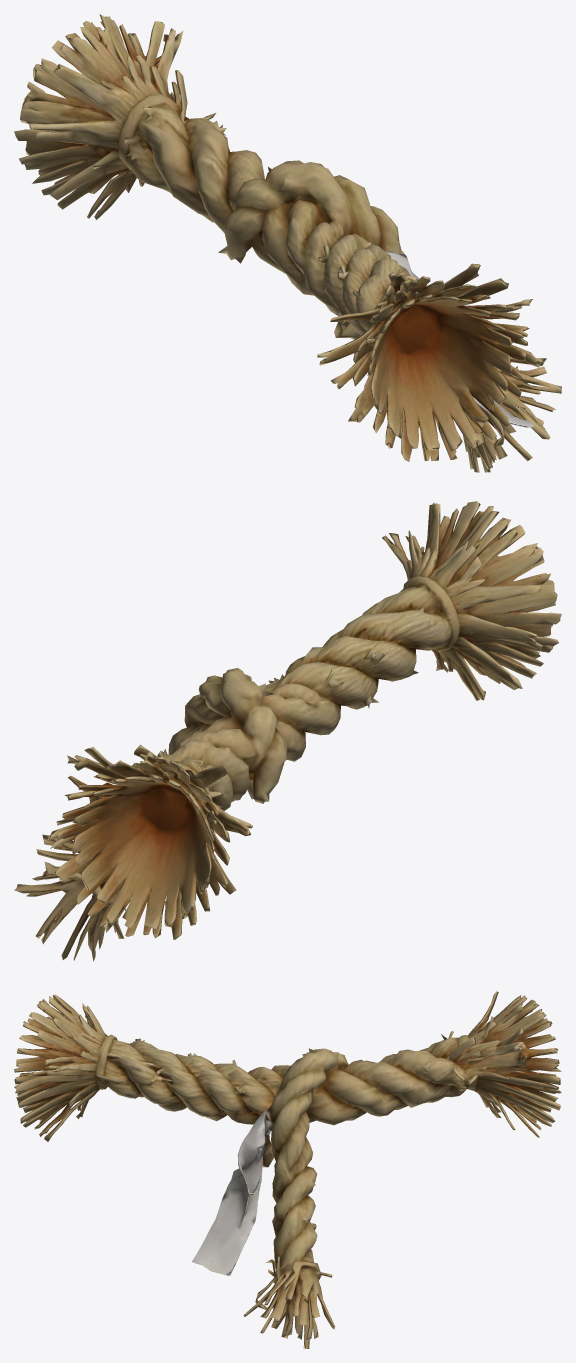
File: shimenawa-loose.glb
3 renders of one model, top to bottom at view 1: azimuth 30°, elevation 25°; view 2: azimuth 150°, elevation 25°; view 3: azimuth 270°, elevation 25°, orthographic. The views are drawn at different scales.
Parts seen in each view (by area): view 1: tripo_node_59f49cf4-9c80-418b-9d82-bafdbae20800; view 2: tripo_node_59f49cf4-9c80-418b-9d82-bafdbae20800; view 3: tripo_node_59f49cf4-9c80-418b-9d82-bafdbae20800.
Part boxes in pixels (bbox=[...]): tripo_node_59f49cf4-9c80-418b-9d82-bafdbae20800: bbox=[14, 14, 561, 472]; tripo_node_59f49cf4-9c80-418b-9d82-bafdbae20800: bbox=[14, 501, 561, 961]; tripo_node_59f49cf4-9c80-418b-9d82-bafdbae20800: bbox=[14, 990, 561, 1348].
Bounding box in the file's own units: 0.5456 × 0.5368 × 1.
1 material, 1 textured.
